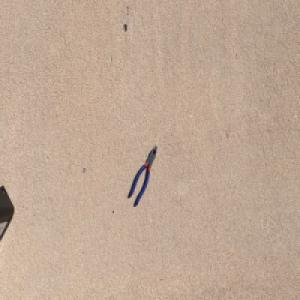Pliers: (128, 143, 158, 206)
